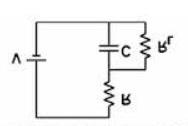Capacitor: (96, 34, 120, 60)
